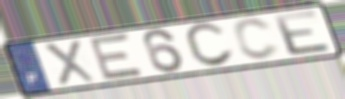6: (142, 27, 186, 74)
C: (182, 21, 237, 69), (231, 16, 283, 61)
E: (270, 9, 335, 58), (88, 31, 146, 82)
X: (40, 39, 98, 87)
